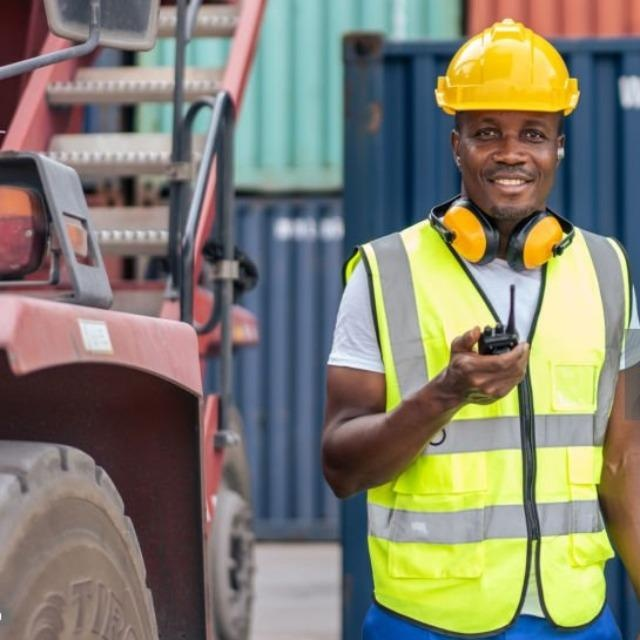Con_Casco: (433, 17, 577, 221)
Con_Chaleco: (342, 220, 633, 627)
